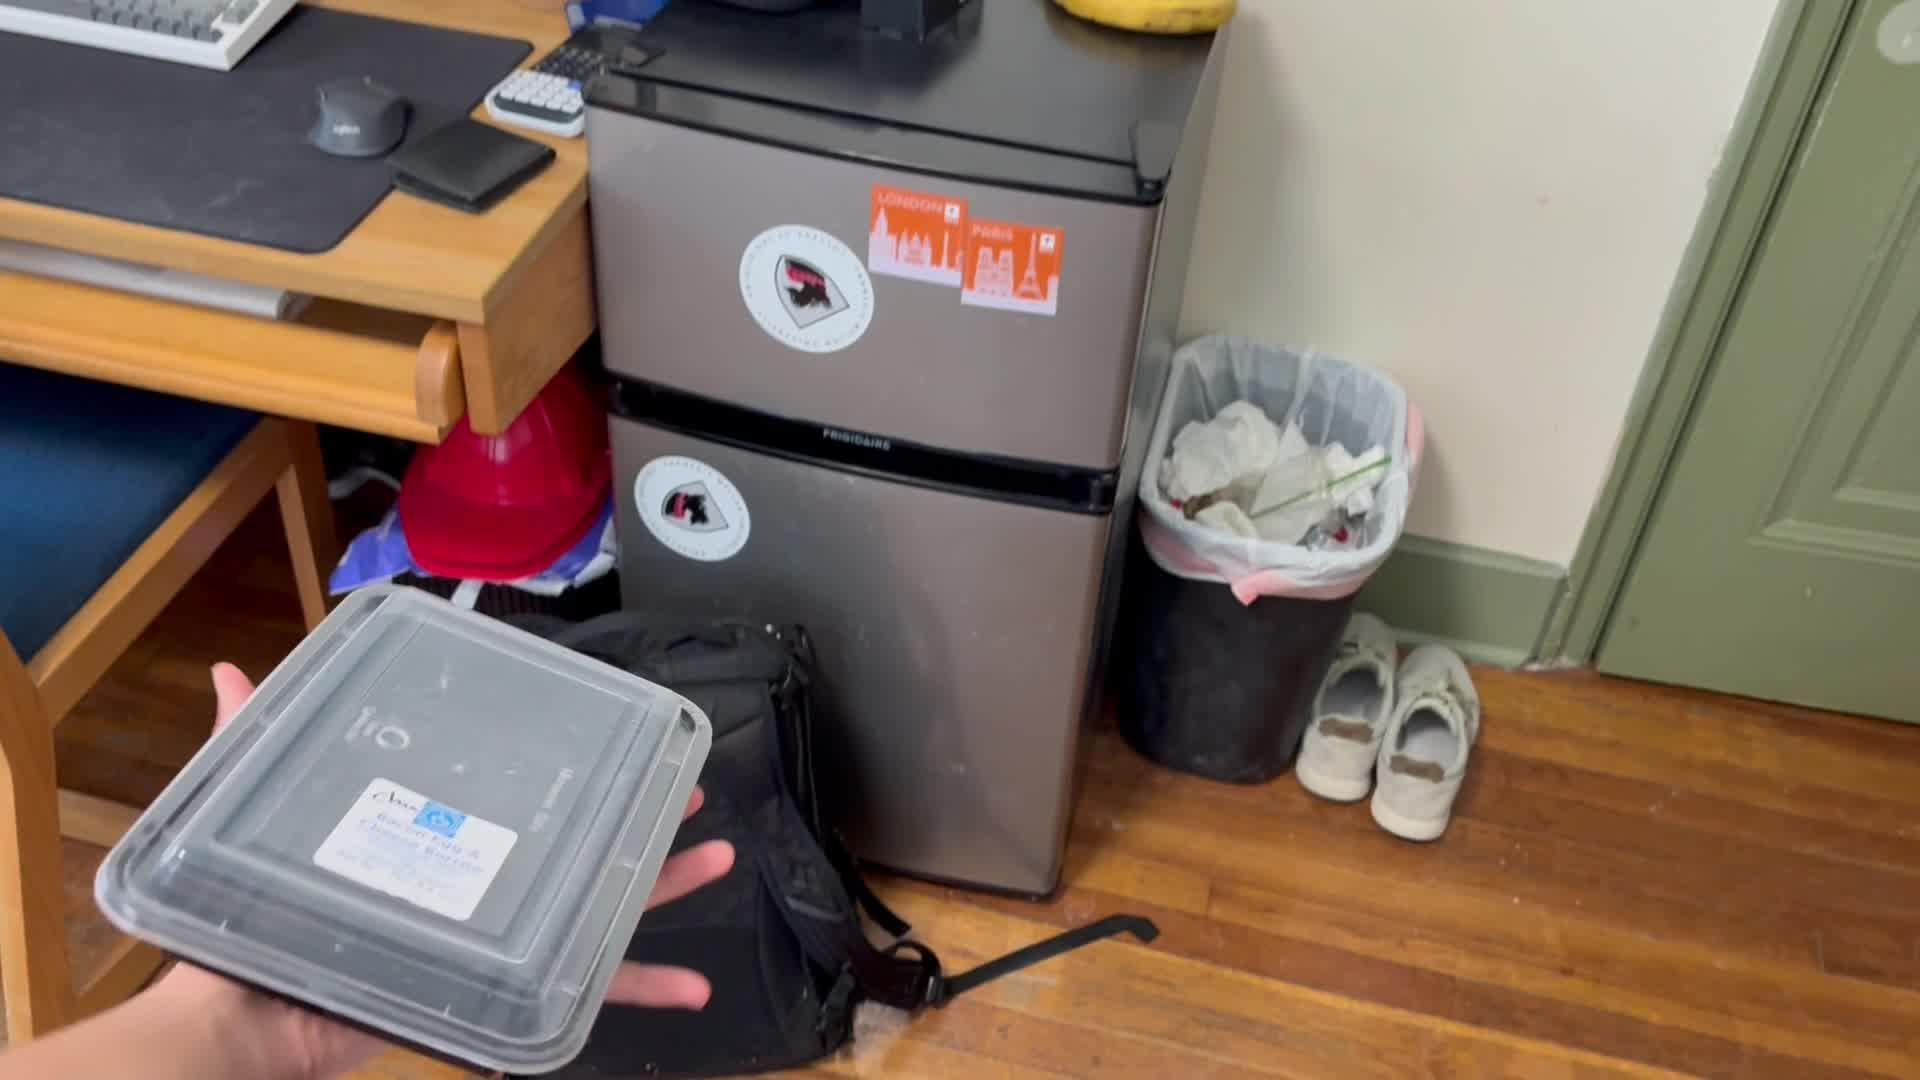lp_cup_lids: (98, 584, 707, 1076)
